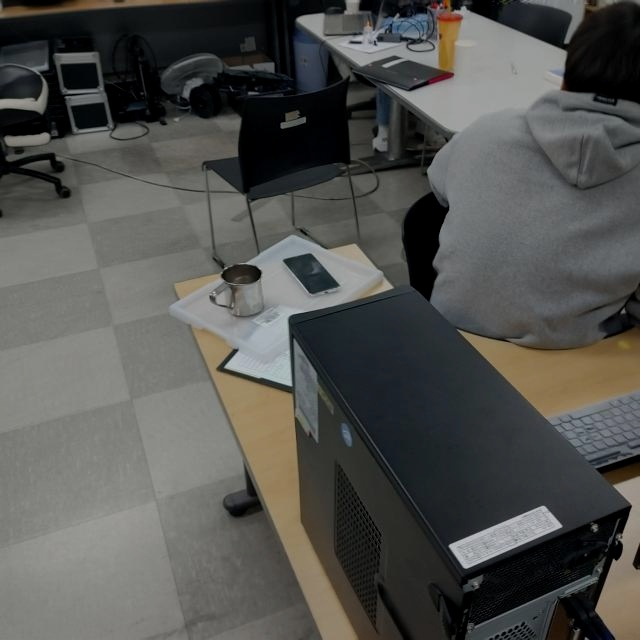cup: (210, 260, 266, 320)
phone: (282, 252, 337, 296)
